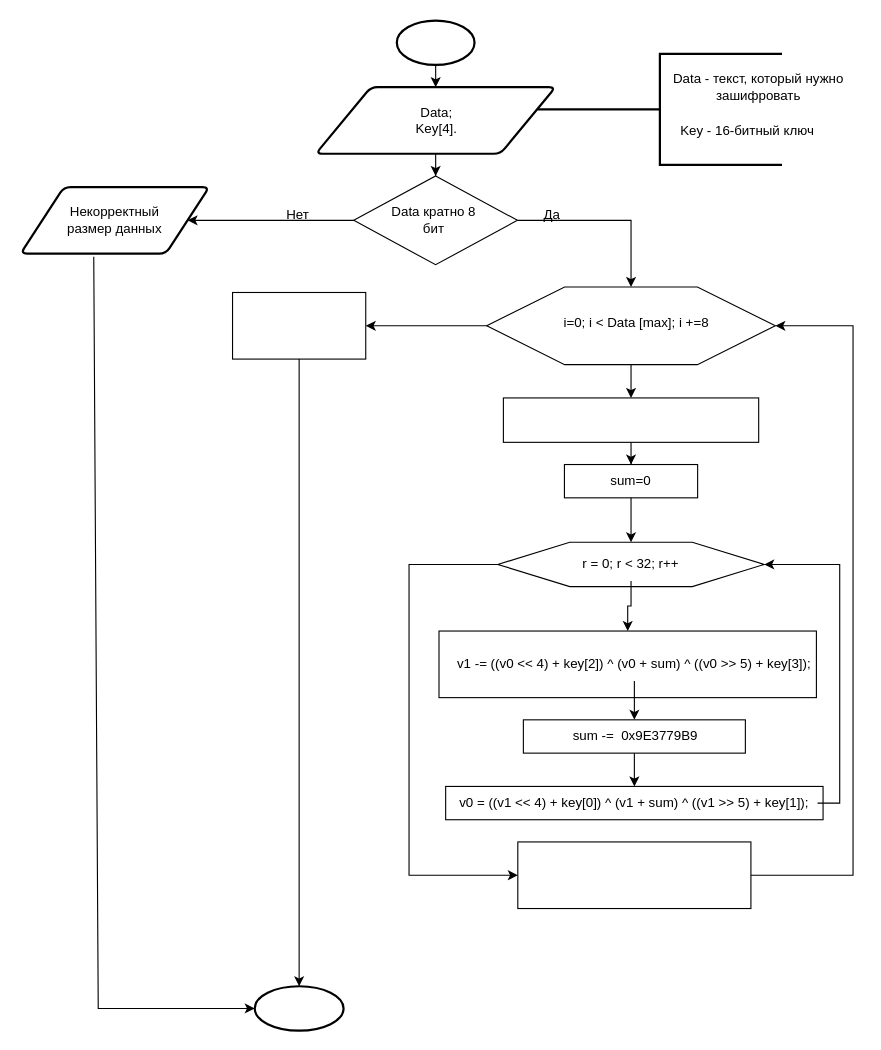
Image size: 881x1050. Some labels were removed from this diagram. Here are the shapes that lost their labels. From the top down, the centre of each, then its label:
pixel 435 42: Нач.
pixel 298 325: Удаление PKCS#7 паддинга
pixel 630 419: Делим на два 32 битных блока v0 b v1
pixel 634 875: Сохранение результата v0 b v1
pixel 298 1008: Кон.
